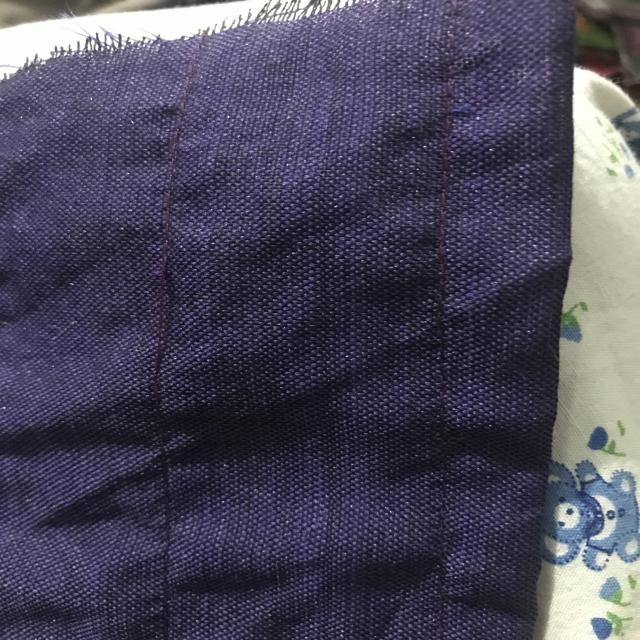skip: (138, 242, 185, 390)
